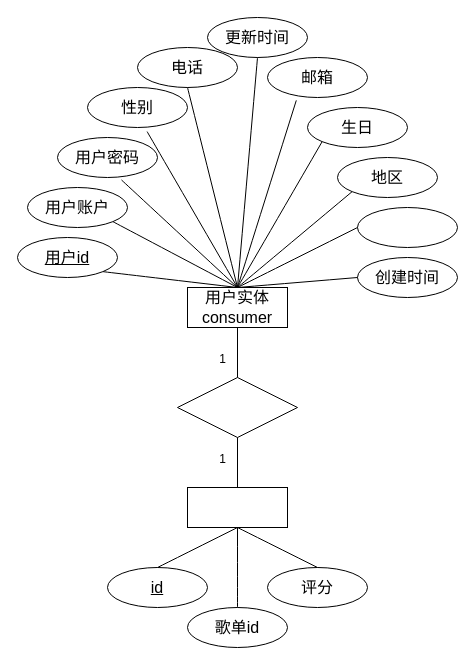
The diagram is 475 pixels wide and 665 high, and some of its shapes have lost their labels. Each missing label, with the centre of its shape:
"打评分" belongs at [237,407].
"歌单评分实体rank" belongs at [237,507].
"用户头像" belongs at [407,227].
